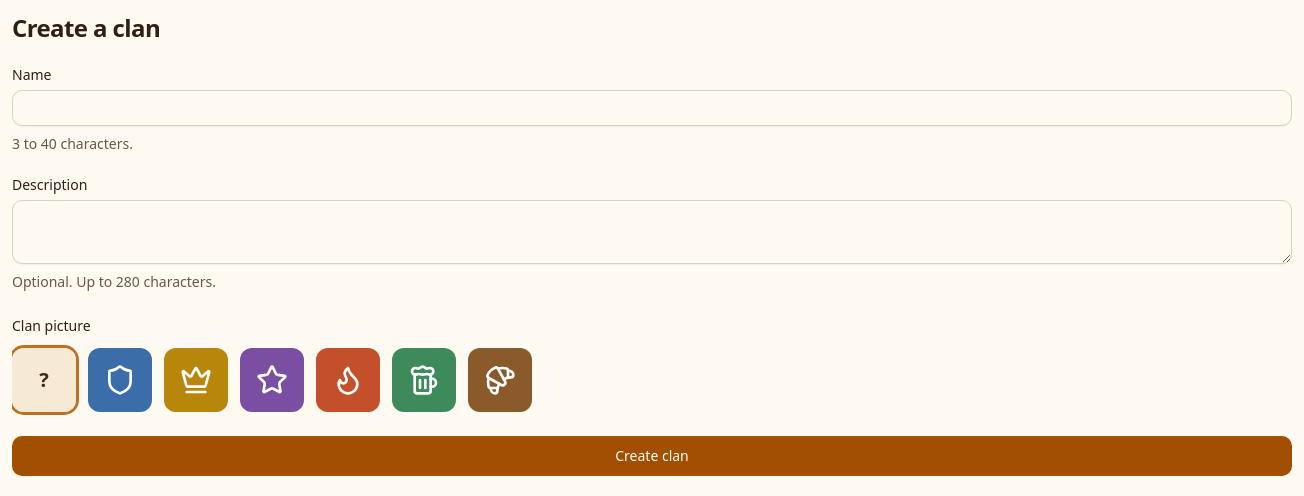
Test case: ClanNewPage › says when the name is taken
The image size is (1304, 496).
Type "Crumbs" into the field labelled "Name" at (652, 108), box [12,90,1292,126]
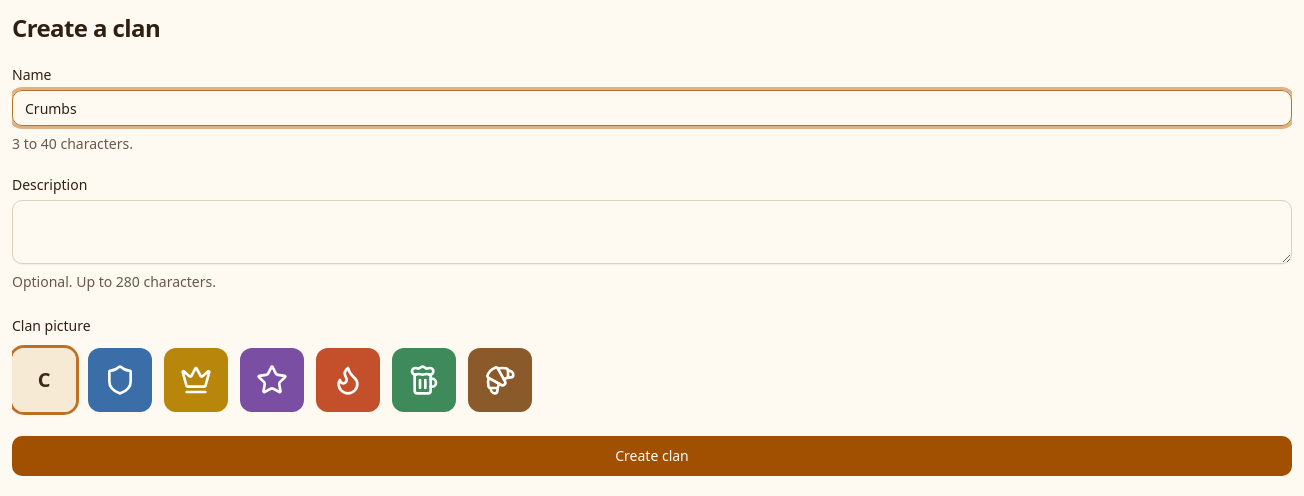
Click the button "Create clan" at (652, 456), box [12,436,1292,476]
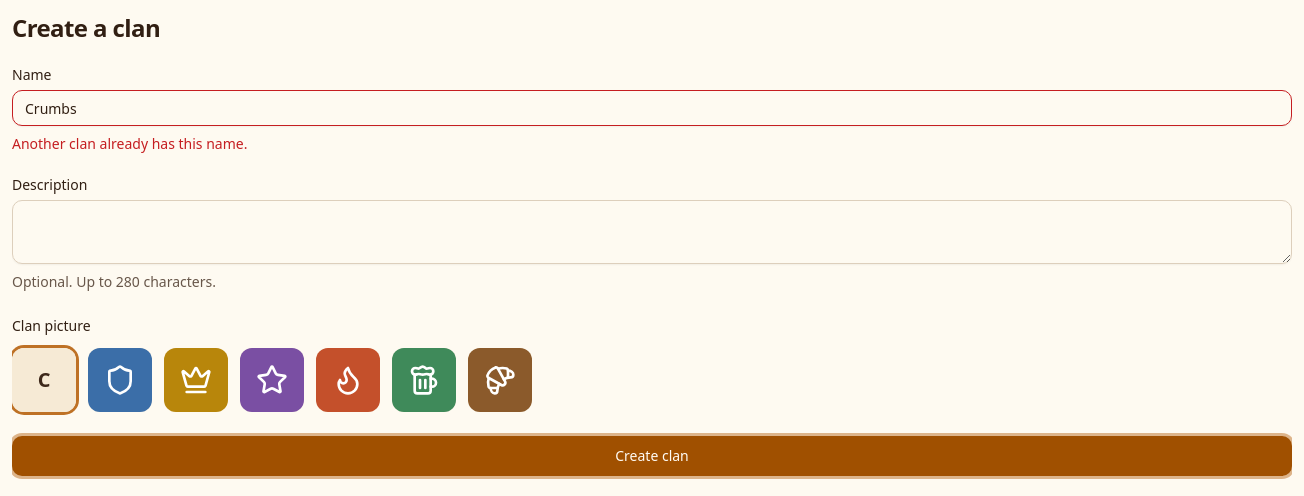
Now the text "Another clan already has this name." is shown, box [12,134,247,153]
